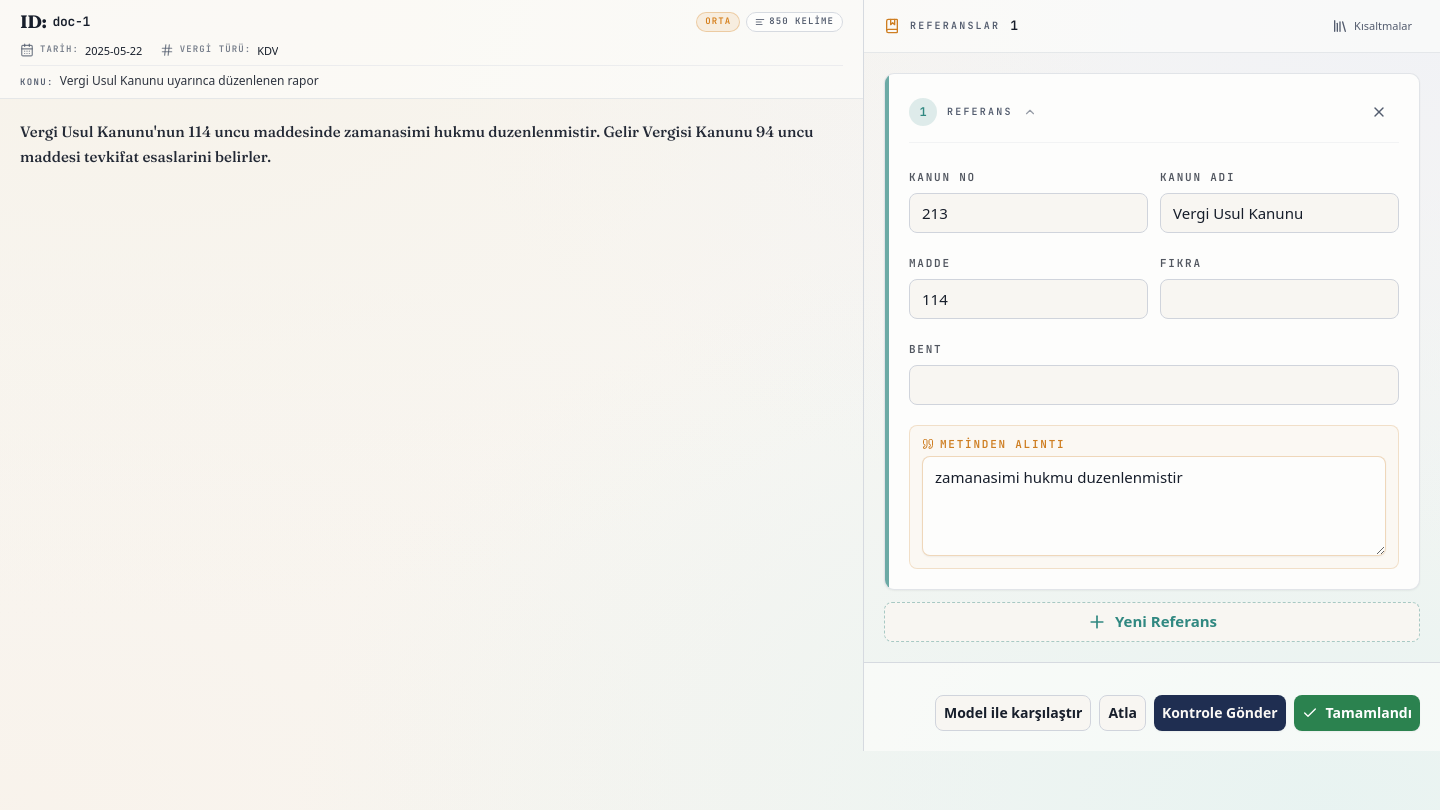
Test: AnnotateDoc quality audit › lets the user compare on demand without completing
This screenshot has width=1440, height=810.
Click the button "Model ile karşılaştır".
click(1013, 713)  # box [935, 695, 1091, 731]
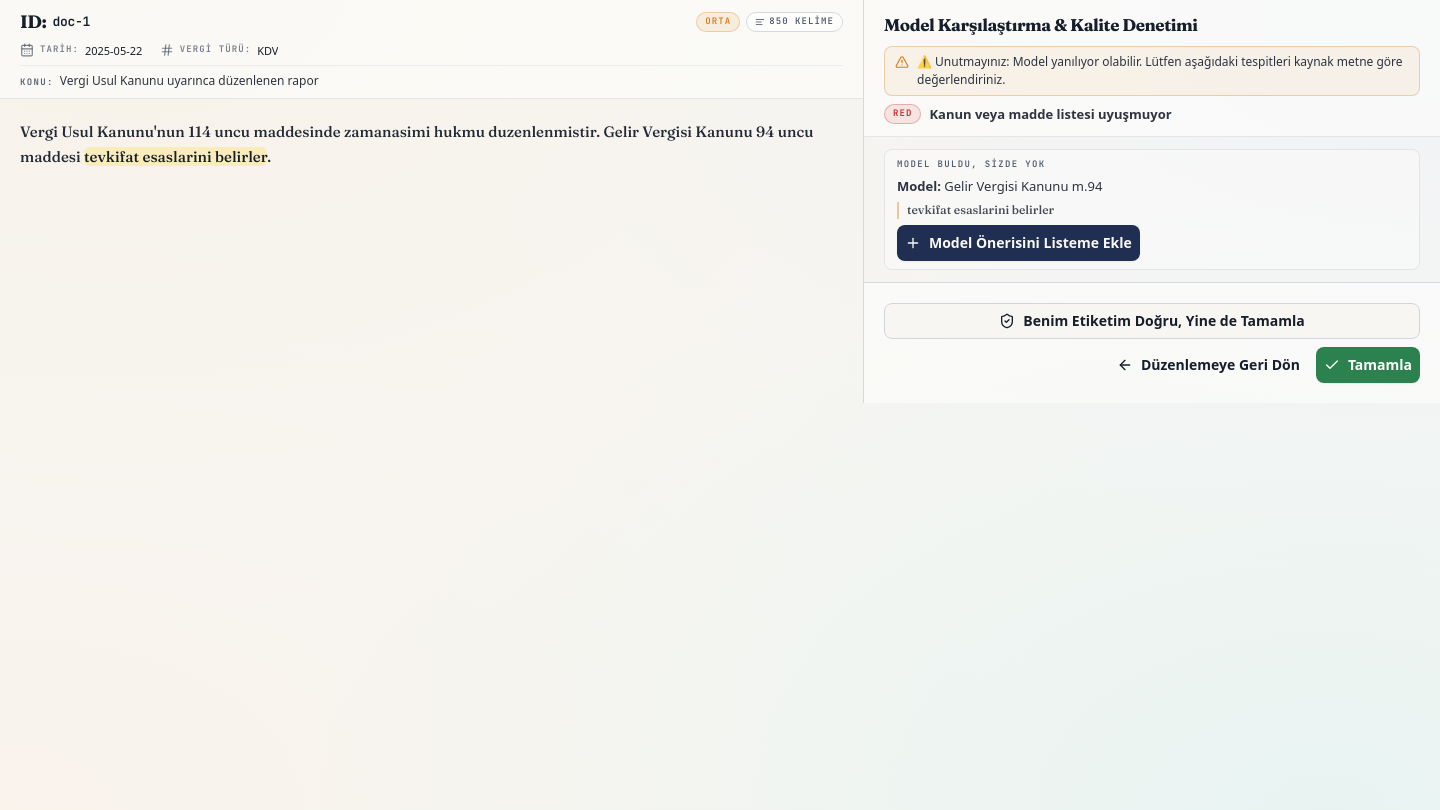
Expected: the heading "Model Karşılaştırma & Kalite Denetimi" is shown, [884, 14, 1198, 35]
